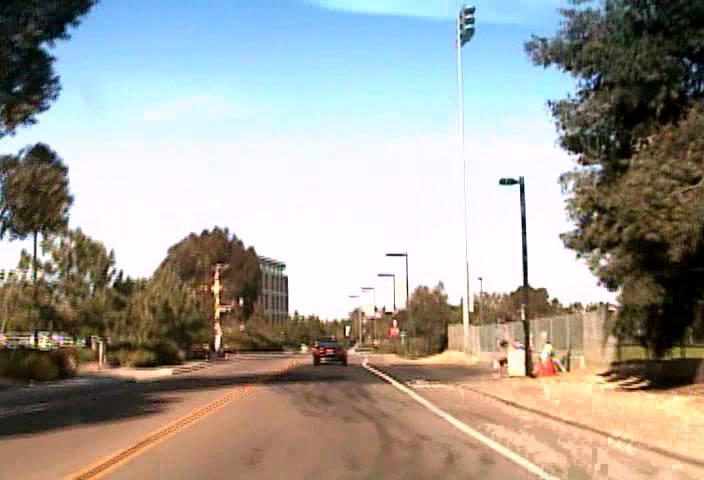stop: (389, 326, 400, 336)
